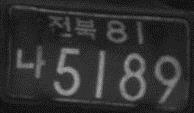1: (93, 47, 108, 100), (135, 19, 145, 47)
5: (52, 46, 81, 96)
8: (118, 51, 147, 102), (106, 19, 127, 43)
9: (152, 54, 182, 106)
나: (15, 44, 46, 79)
전북_O: (47, 14, 96, 40)
